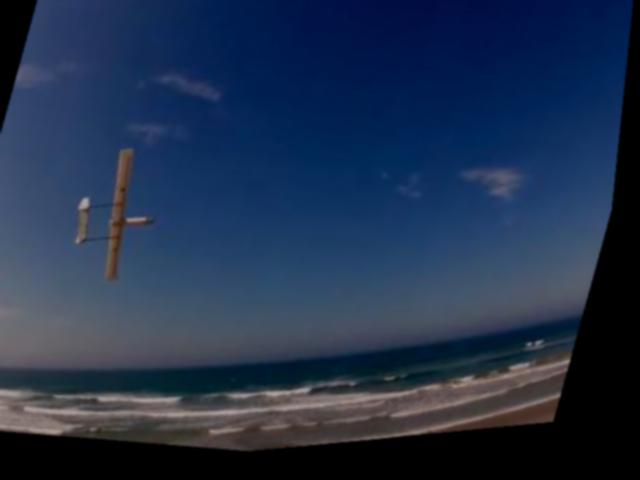uav: (61, 131, 190, 302)
